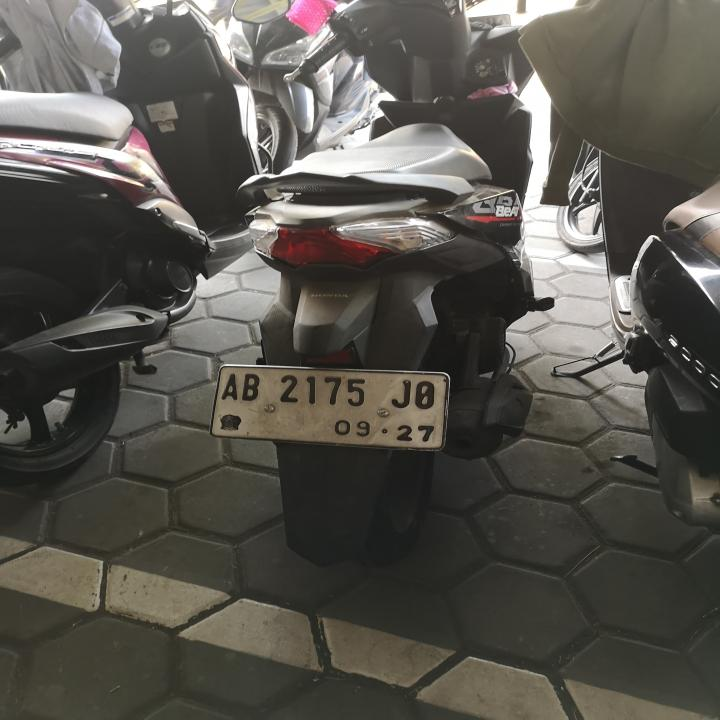plate: (207, 360, 453, 458)
